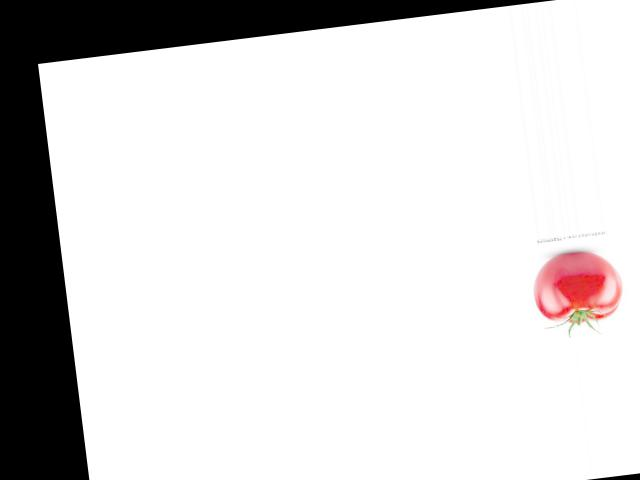tomato: (529, 247, 625, 326)
